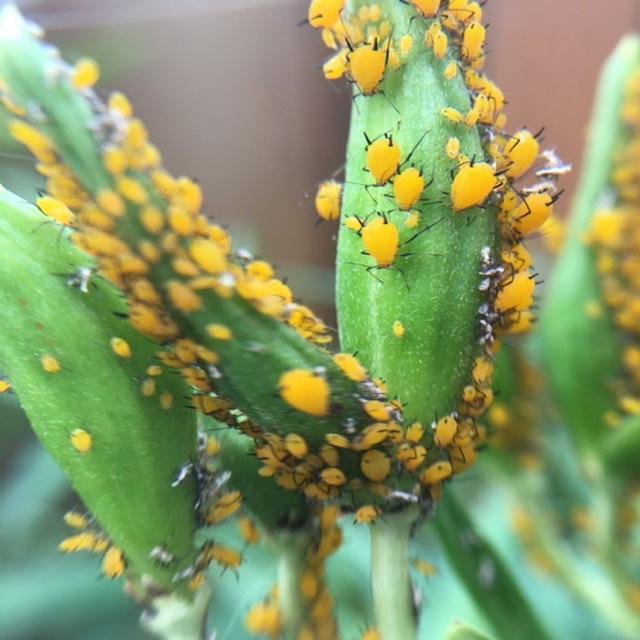aphid: (344, 205, 424, 290), (430, 139, 505, 223), (492, 109, 565, 188), (267, 348, 338, 428), (368, 163, 456, 224), (337, 25, 390, 104), (347, 120, 410, 183), (322, 336, 390, 386), (480, 262, 548, 312), (312, 152, 354, 230), (420, 402, 476, 446), (352, 414, 397, 467), (421, 451, 464, 488)
